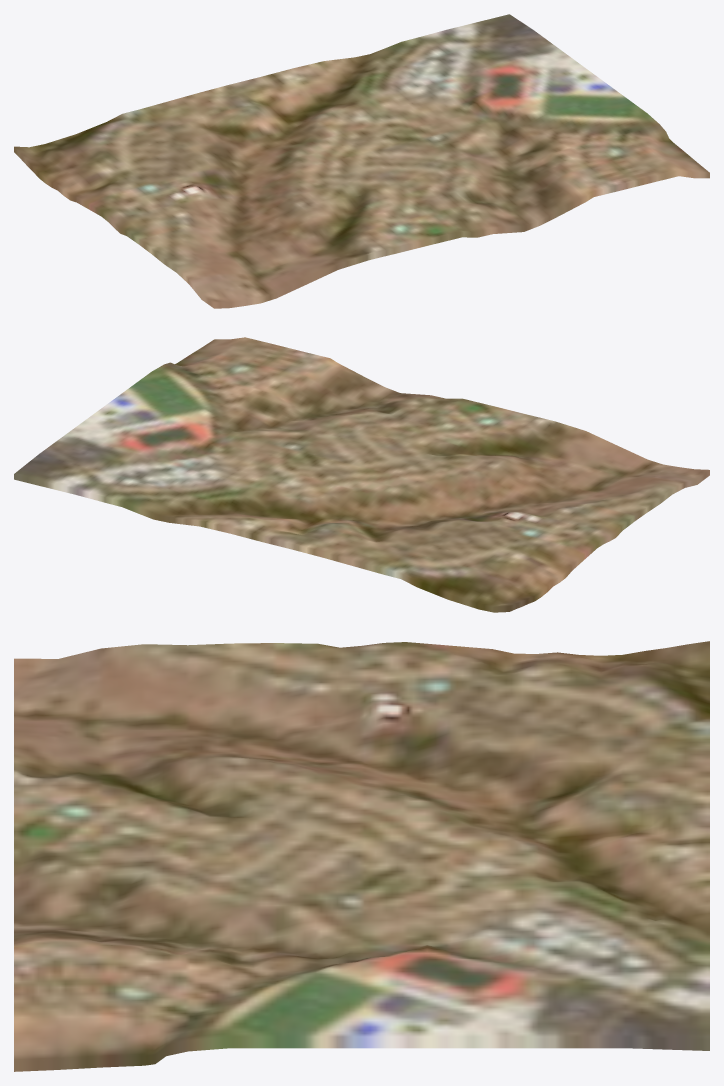
File: terrain_r4_c3_lod2.glb
The picture shows the model from 3 angles, top to bottom: view 1: azimuth 30°, elevation 25°; view 2: azimuth 150°, elevation 25°; view 3: azimuth 270°, elevation 25°; orthographic projection. The views are drawn at different scales.
Parts seen in each view (by area): view 1: terrain_r4_c3_lod2; view 2: terrain_r4_c3_lod2; view 3: terrain_r4_c3_lod2.
Part boxes in pixels (x1,y1,x2,y2): terrain_r4_c3_lod2: (14,14,709,308); terrain_r4_c3_lod2: (14,337,709,612); terrain_r4_c3_lod2: (14,641,709,1071).
Bounding box in the file's own units: 1125 × 75.33 × 787.
Materials: 1 (1 with a texture image).
